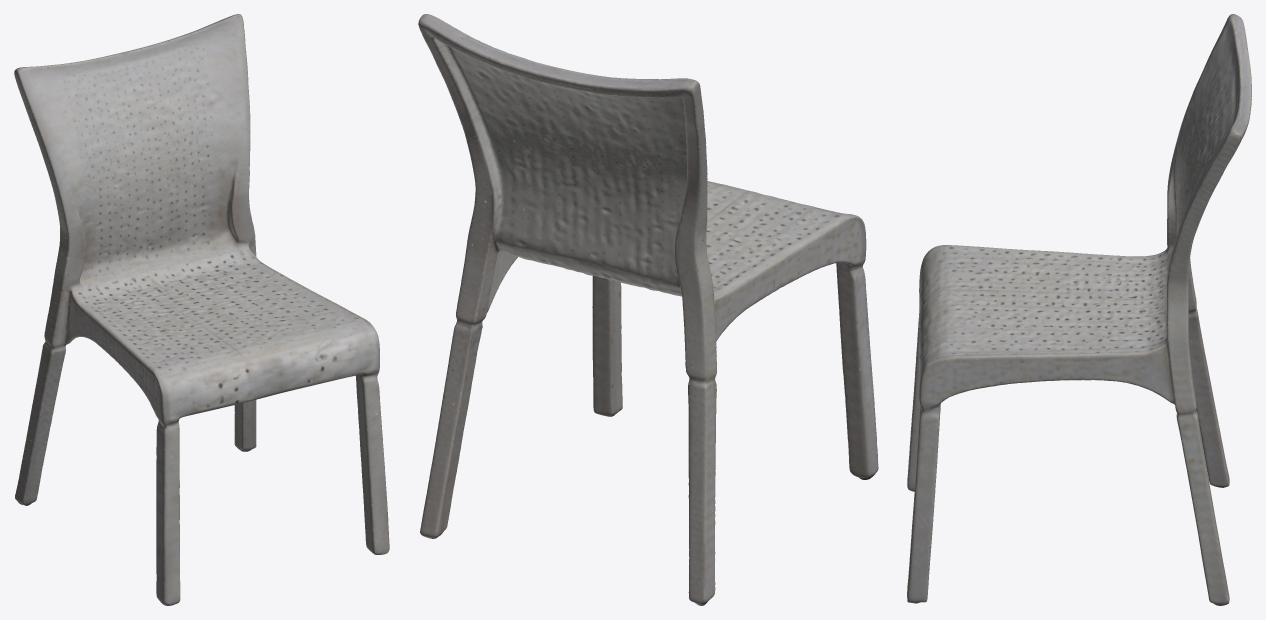
File: Meshy_AI_Poolside_Woven_Chair_0318094633_texture.glb
3 views of the same model, side by side, from view 1: azimuth 30°, elevation 25°; view 2: azimuth 150°, elevation 25°; view 3: azimuth 270°, elevation 25° (orthographic). The views are drawn at different scales.
Size of the model in its own units: 1.13 by 2.01 by 1.32.
Materials: 1 (1 with a texture image).
